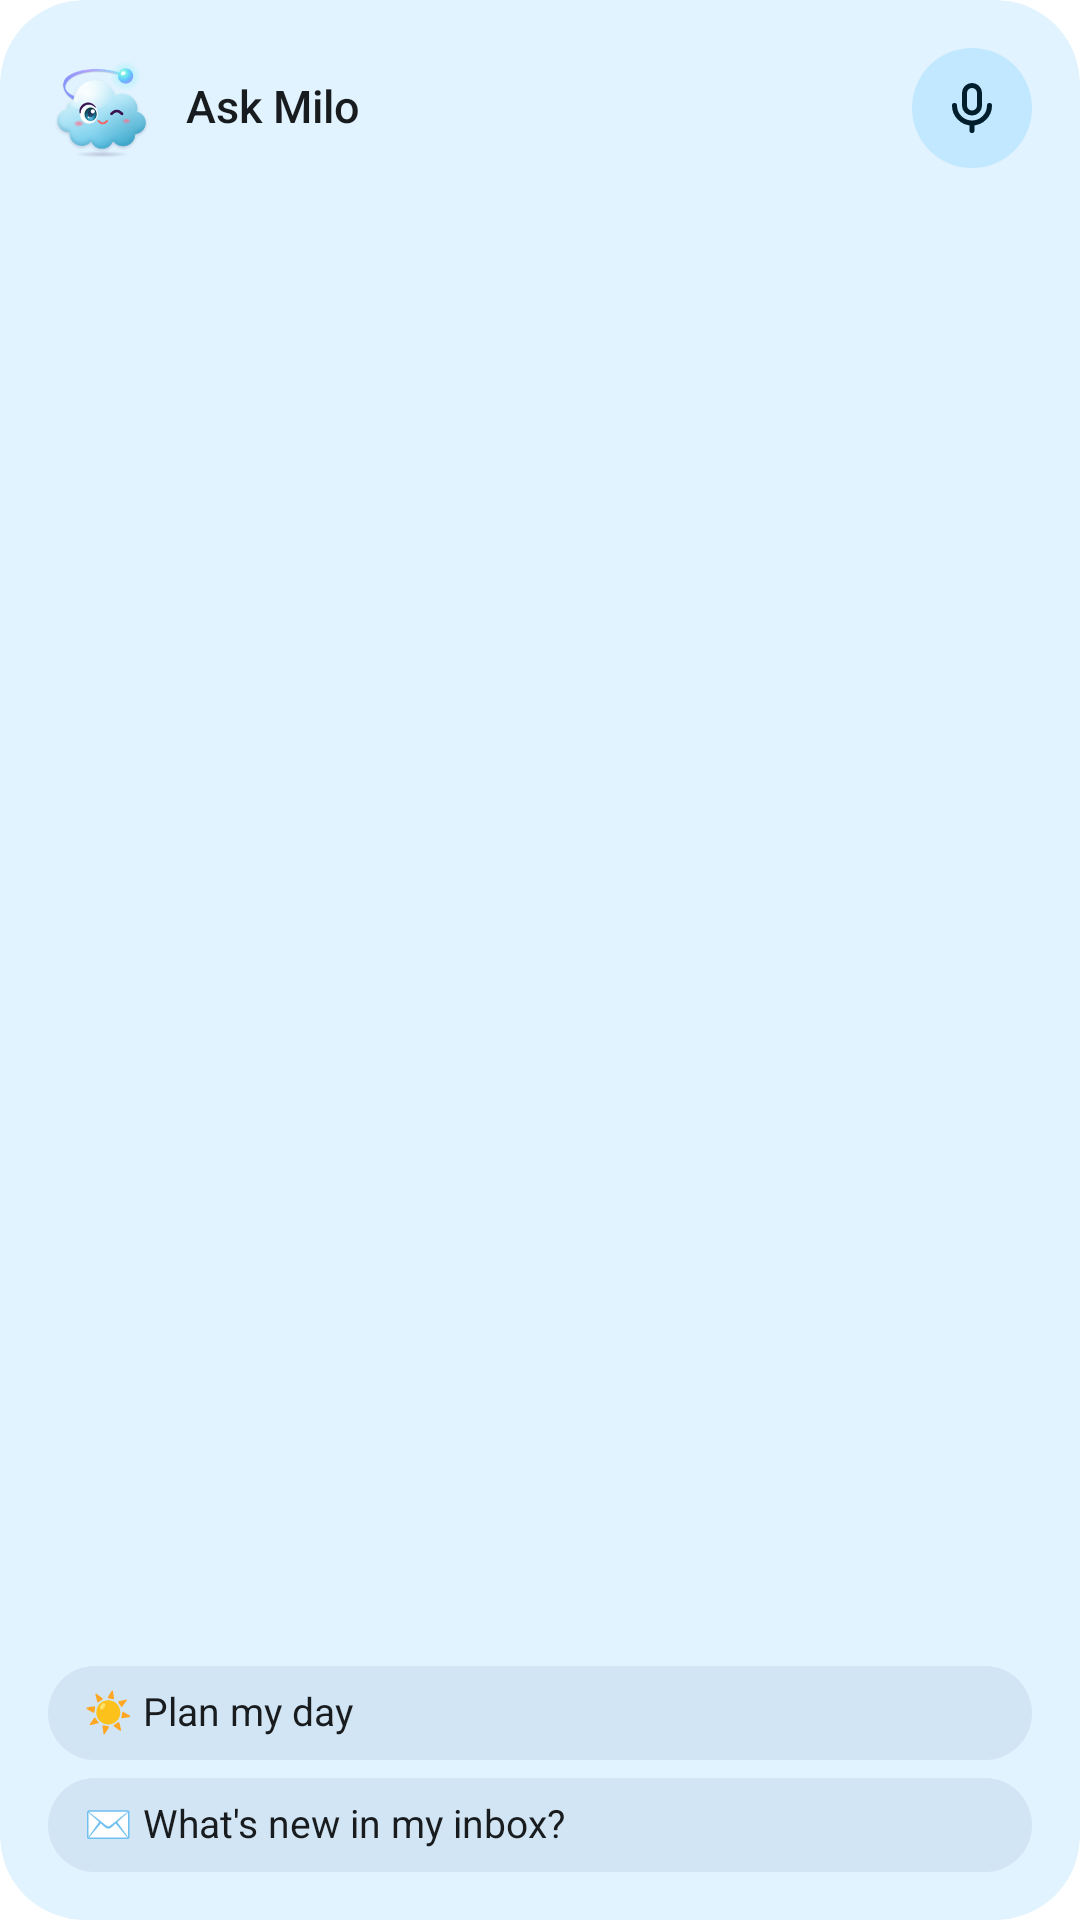

Where icons sit on this 1080×1920 app screen, as (x1, y1, x2, y2):
mascot winky: (57, 67, 146, 156)
Talk: (912, 48, 1032, 168)
